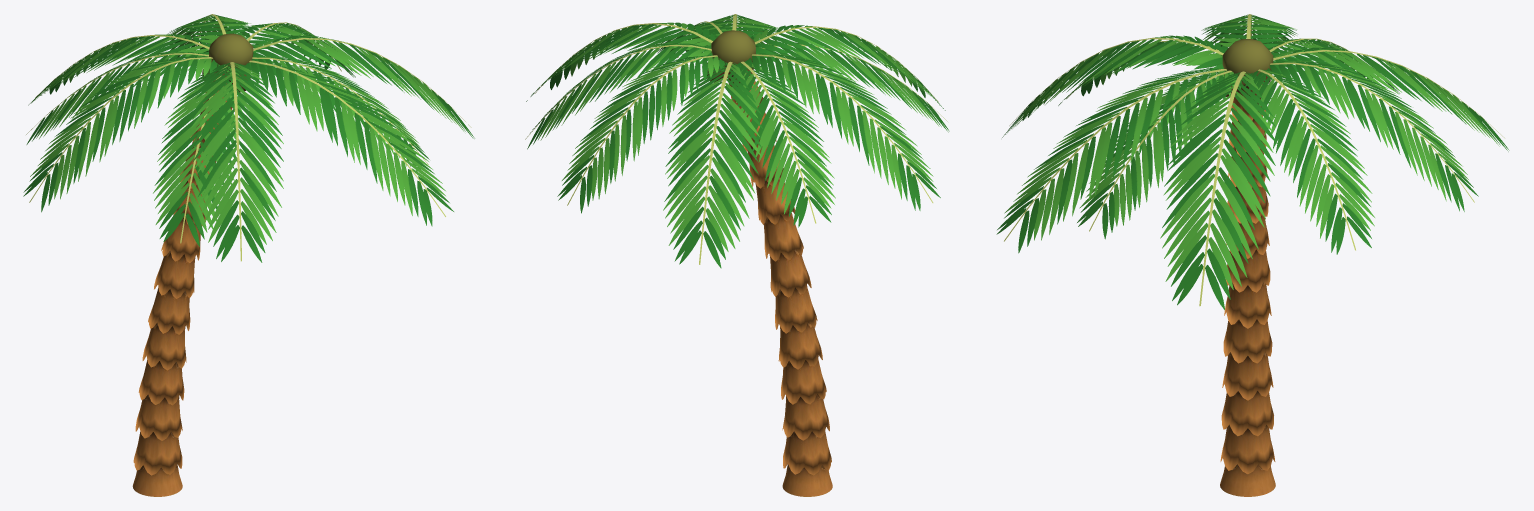
The model's file is palm.glb.
The picture shows the model from 3 angles, left to right: view 1: azimuth 30°, elevation 25°; view 2: azimuth 150°, elevation 25°; view 3: azimuth 270°, elevation 25°; orthographic projection. The views are drawn at different scales.
Visible parts, largest first — view 1: fronds, trunk; view 2: fronds, trunk; view 3: fronds, trunk.
Part boxes in pixels (<box>): fronds: <box>23,14,474,262</box>; trunk: <box>132,33,253,496</box>; fronds: <box>525,14,949,268</box>; trunk: <box>707,30,832,496</box>; fronds: <box>996,14,1509,309</box>; trunk: <box>1219,39,1275,496</box>.
Bounding box in the file's own units: 9.24 × 9 × 9.01.
2 materials, 2 textured.
